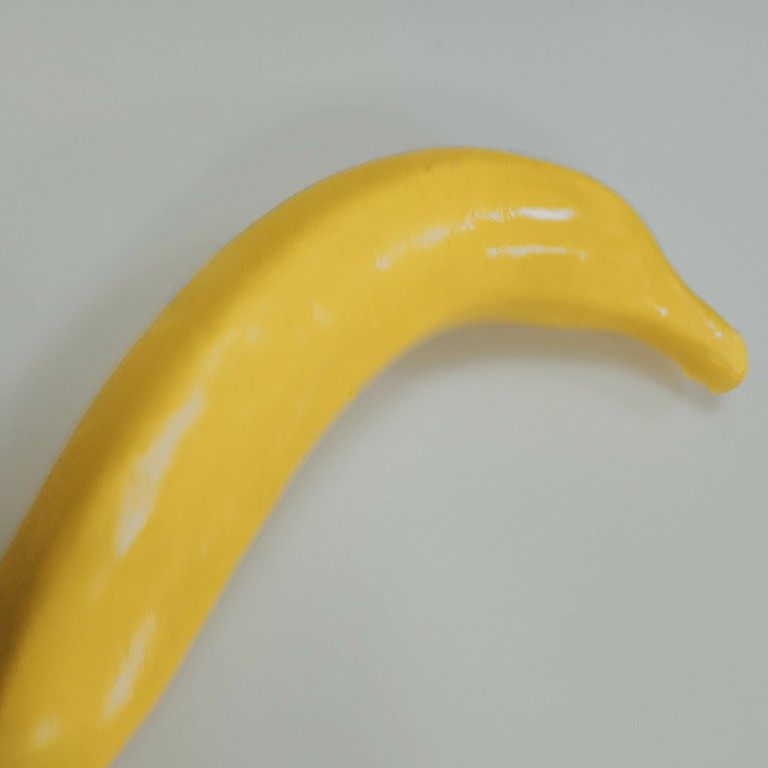fruit_banana: (1, 140, 753, 768)
